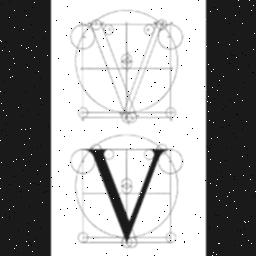v: (88, 148, 168, 244)
